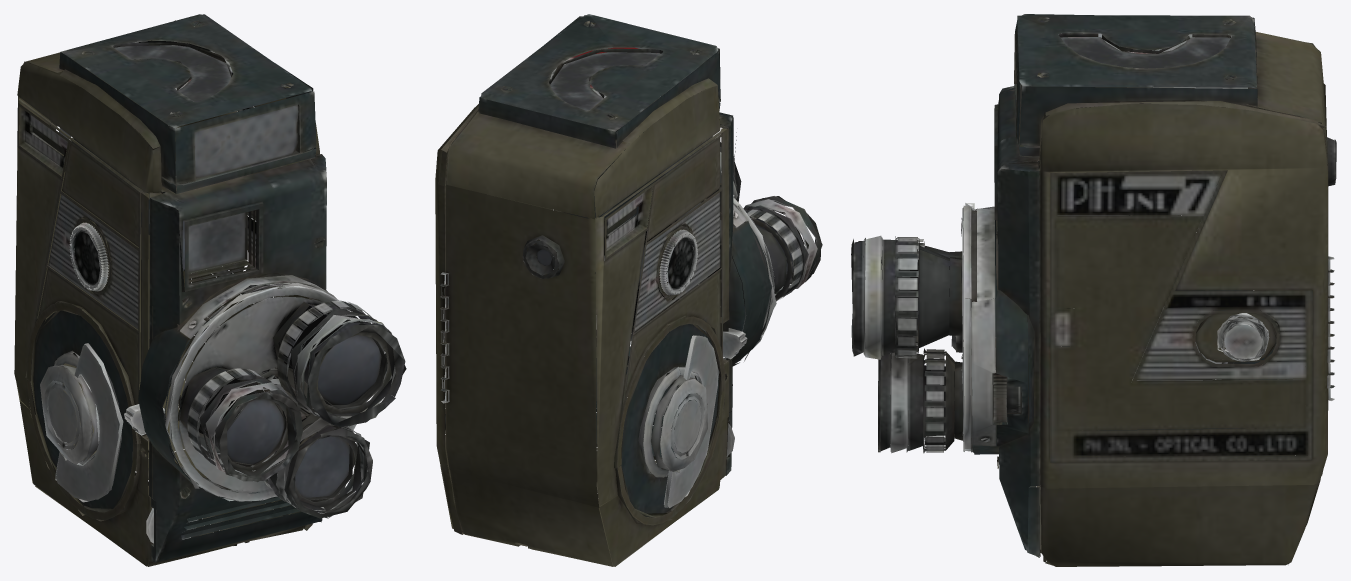
The model's file is vintage_video_camera.glb.
The picture shows the model from 3 angles, left to right: view 1: azimuth 30°, elevation 25°; view 2: azimuth 150°, elevation 25°; view 3: azimuth 270°, elevation 25°; orthographic projection. The views are drawn at different scales.
Parts seen in each view (by area): view 1: vintage_video_camera; view 2: vintage_video_camera; view 3: vintage_video_camera.
Boxes of the visible parts, bbox=[...] form: vintage_video_camera: bbox=[14, 14, 406, 566]; vintage_video_camera: bbox=[435, 14, 822, 566]; vintage_video_camera: bbox=[851, 14, 1336, 566].
Bounding box in the file's own units: 0.0714 × 0.1447 × 0.1326.
Materials: 2 (2 with a texture image).
